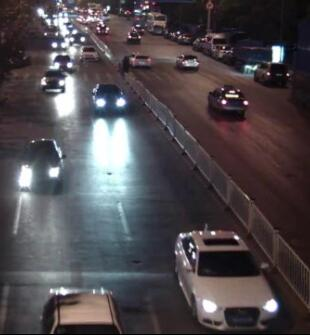bus: (140, 9, 166, 34), (134, 7, 149, 29)
car: (173, 231, 283, 332), (44, 288, 123, 331), (18, 137, 66, 190), (234, 38, 275, 74), (206, 85, 250, 115), (91, 83, 127, 114), (251, 61, 290, 86), (202, 31, 230, 57), (40, 68, 67, 92), (211, 41, 233, 61), (51, 53, 73, 71), (175, 53, 199, 69), (127, 52, 151, 68), (78, 44, 98, 60), (67, 31, 86, 45), (49, 36, 66, 51), (43, 23, 60, 38), (175, 31, 191, 45), (126, 30, 142, 43), (191, 36, 204, 50), (130, 23, 145, 35), (95, 24, 110, 35)
